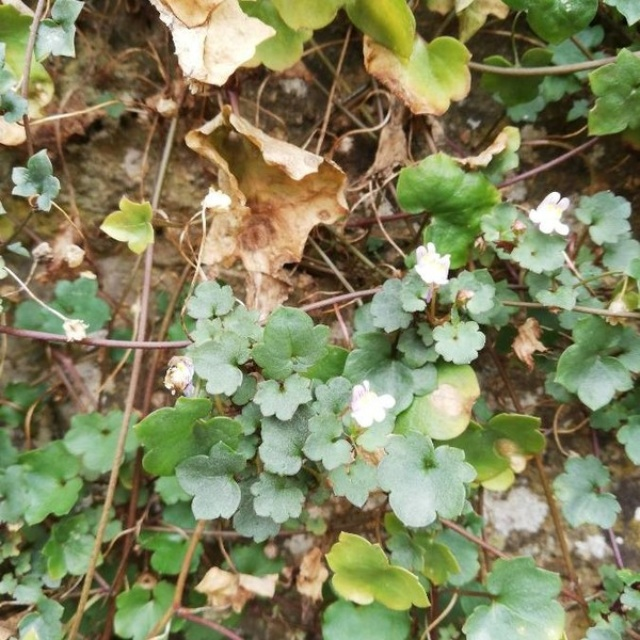obstacle: (153, 272, 502, 604)
